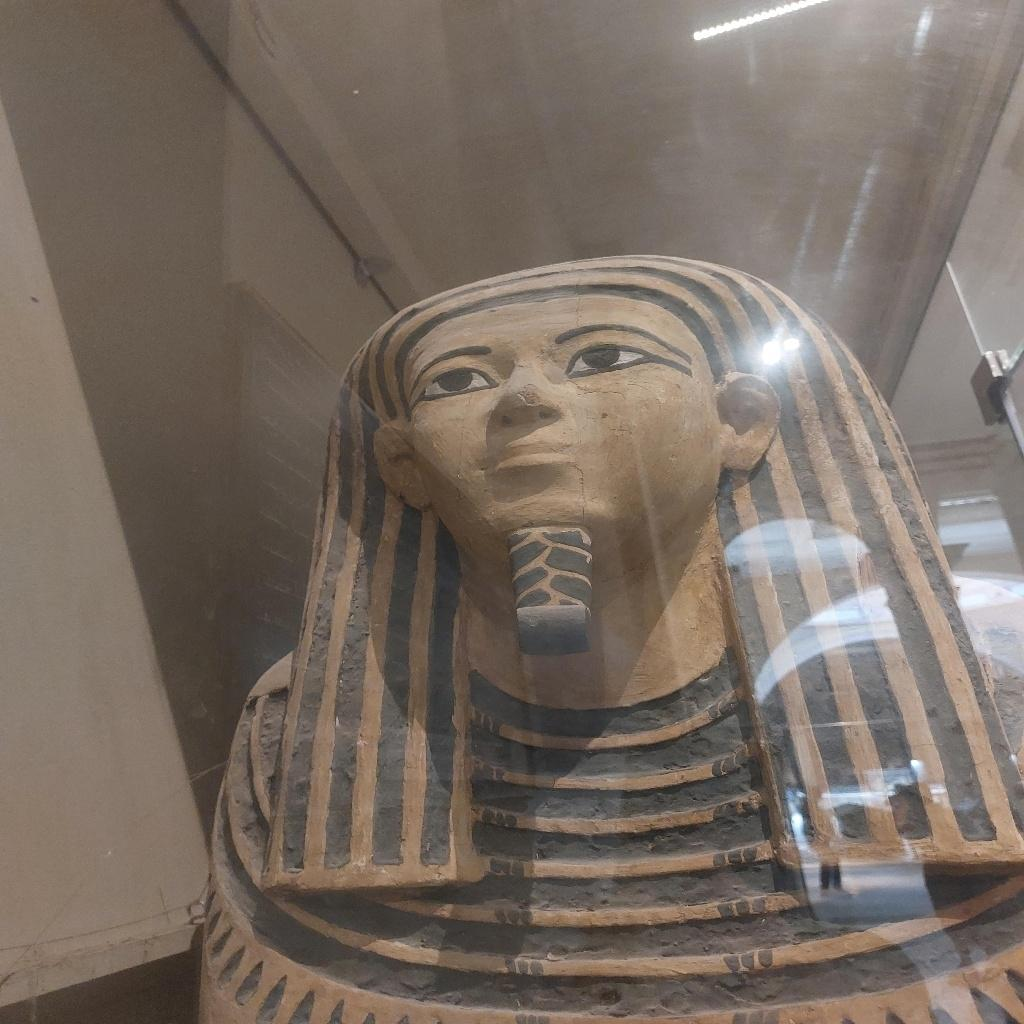Coffin of Ahmose I: (195, 250, 1020, 1018)
